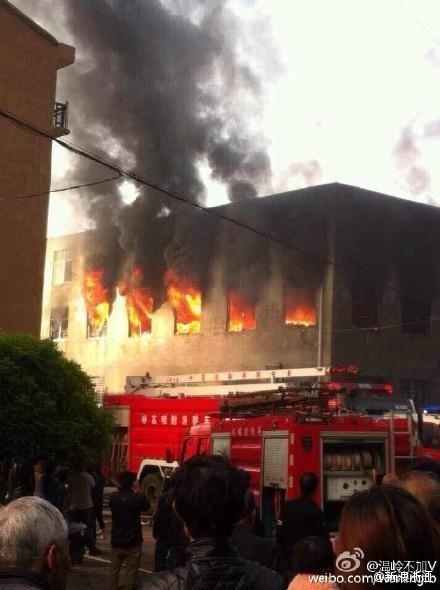fire: (80, 270, 205, 336), (226, 293, 255, 331), (283, 303, 315, 328)
